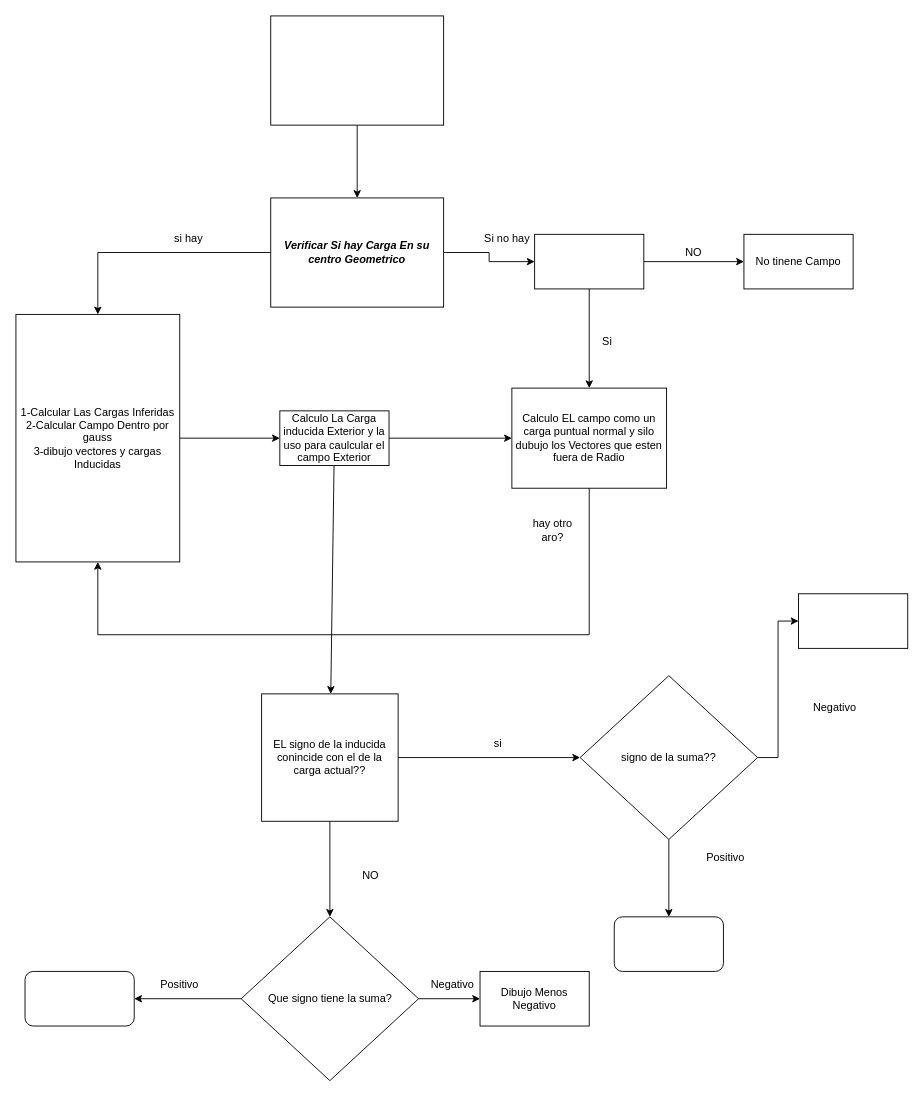
Some shapes in this 924 by 1097 pixel diagram are drawn without their labels. The centre of each missing label's shape, as x and y in pixels:
CalculoCampoElectrico DeCargasEsfericas COnductoras: the point at 357,70
Dibujo MAS Negativas: the point at 853,620
Dibujo MAS positivas: the point at 668,943
Dibujo Menos Positivo: the point at 79,998
Esta Cargado el Conductor?: the point at 589,261
